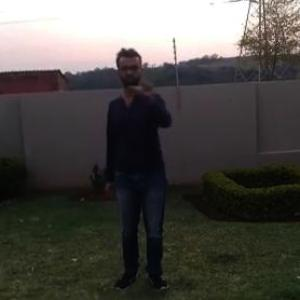land_hand: (130, 73, 156, 112)
